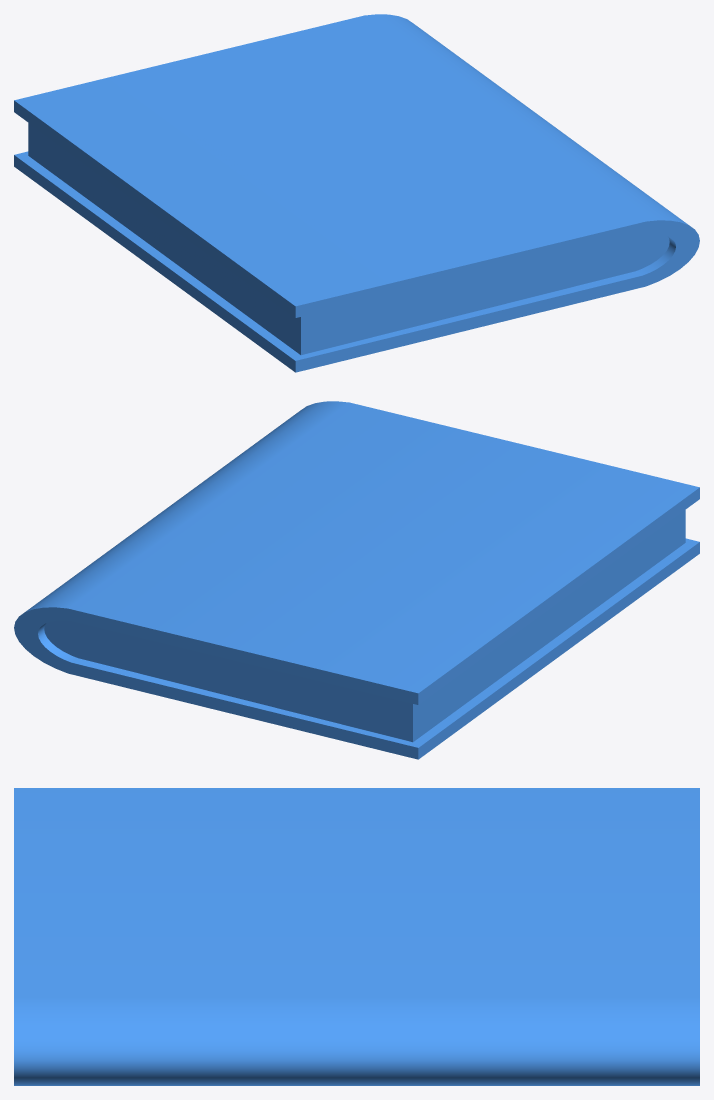
Rendered from Libro.033.glb.
The picture shows the model from 3 angles, top to bottom: view 1: azimuth 30°, elevation 25°; view 2: azimuth 150°, elevation 25°; view 3: azimuth 270°, elevation 25°; orthographic projection. The views are drawn at different scales.
Parts seen in each view (by area): view 1: Caballete_Libro.033; view 2: Caballete_Libro.033; view 3: Caballete_Libro.033.
Boxes of the visible parts, x1=… form: Caballete_Libro.033: x1=14, y1=14, x2=699, y2=372; Caballete_Libro.033: x1=14, y1=401, x2=699, y2=759; Caballete_Libro.033: x1=14, y1=788, x2=699, y2=1085.
Bounding box in the file's own units: 0.2625 × 0.0411 × 0.3165.
